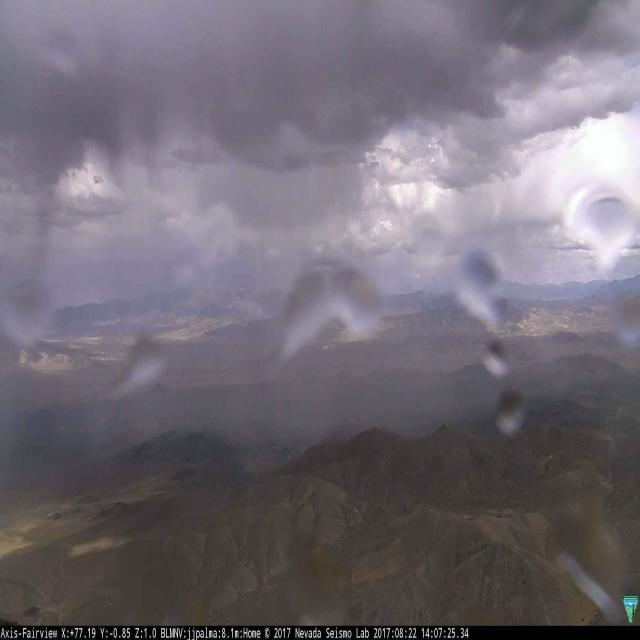smoke: (234, 299, 272, 322)
